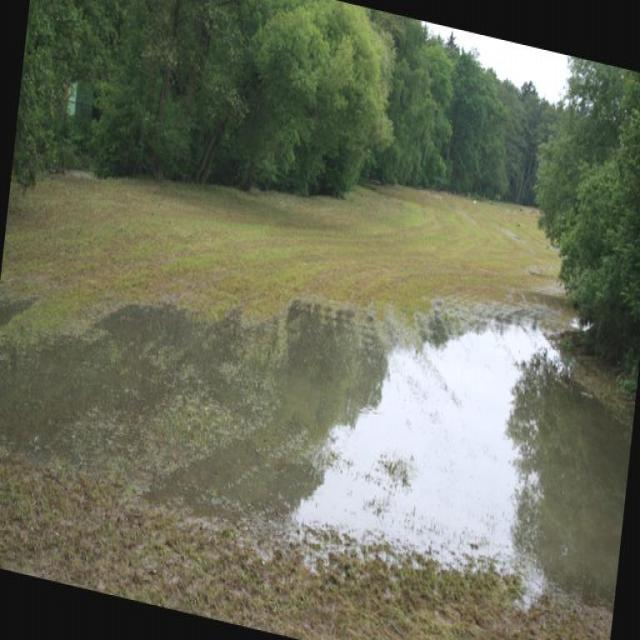flood: (179, 252, 640, 628)
